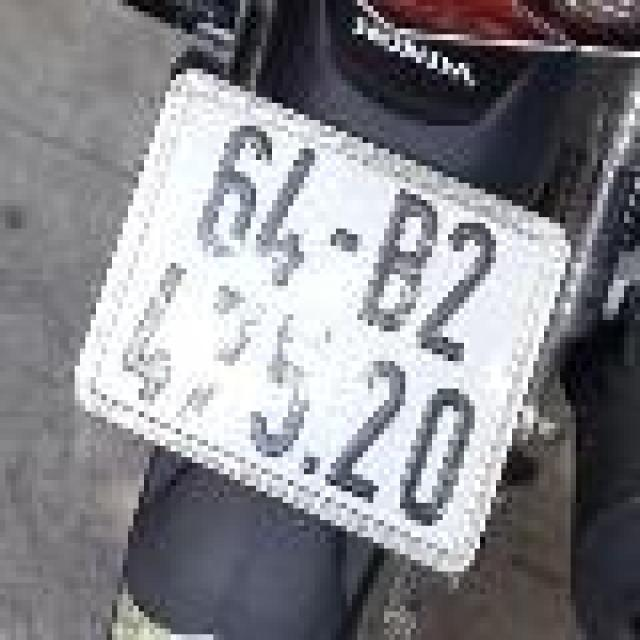0: (392, 376, 491, 544)
2: (318, 343, 420, 515), (413, 214, 506, 374)
4: (106, 246, 212, 407), (248, 143, 342, 299)
5: (235, 308, 340, 472)
6: (184, 120, 286, 273)
7: (166, 275, 274, 440)
B: (346, 180, 446, 346)
